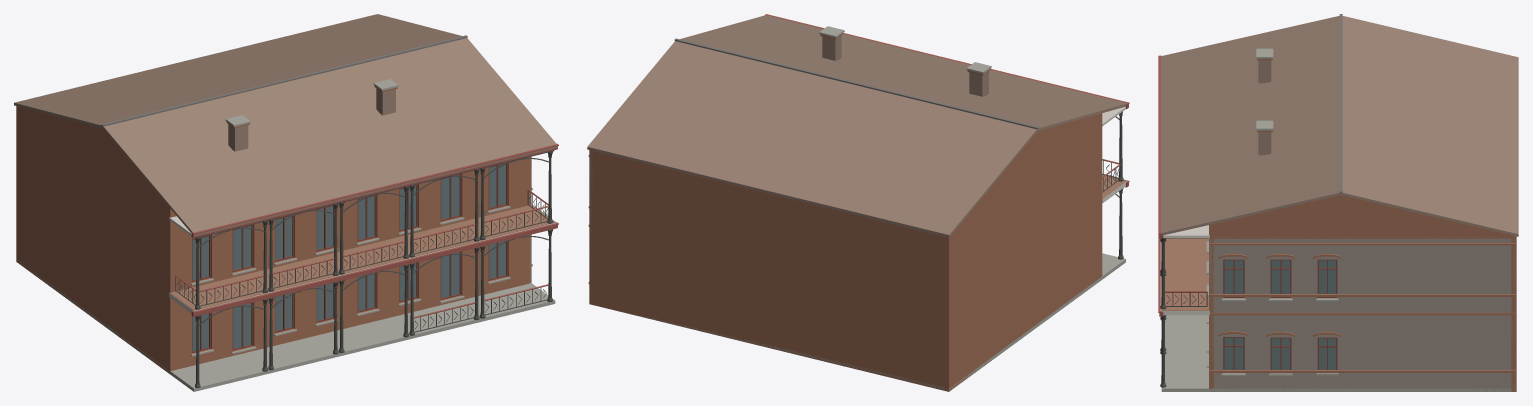
File: huangpu-qiuxin-shipyard-office-south-veranda-lod.glb
3 views of the same model, side by side, from view 1: azimuth 30°, elevation 25°; view 2: azimuth 150°, elevation 25°; view 3: azimuth 270°, elevation 25° (orthographic).
Visible parts, largest first — view 1: 求新船厂厂部办公楼南立面铸铁外廊; view 2: 求新船厂厂部办公楼南立面铸铁外廊; view 3: 求新船厂厂部办公楼南立面铸铁外廊.
Part boxes in pixels (bbox=[...]): 求新船厂厂部办公楼南立面铸铁外廊: bbox=[14, 14, 558, 391]; 求新船厂厂部办公楼南立面铸铁外廊: bbox=[587, 14, 1129, 391]; 求新船厂厂部办公楼南立面铸铁外廊: bbox=[1158, 14, 1518, 391].
Bounding box in the file's own units: 21.22 × 11.69 × 18.17.
